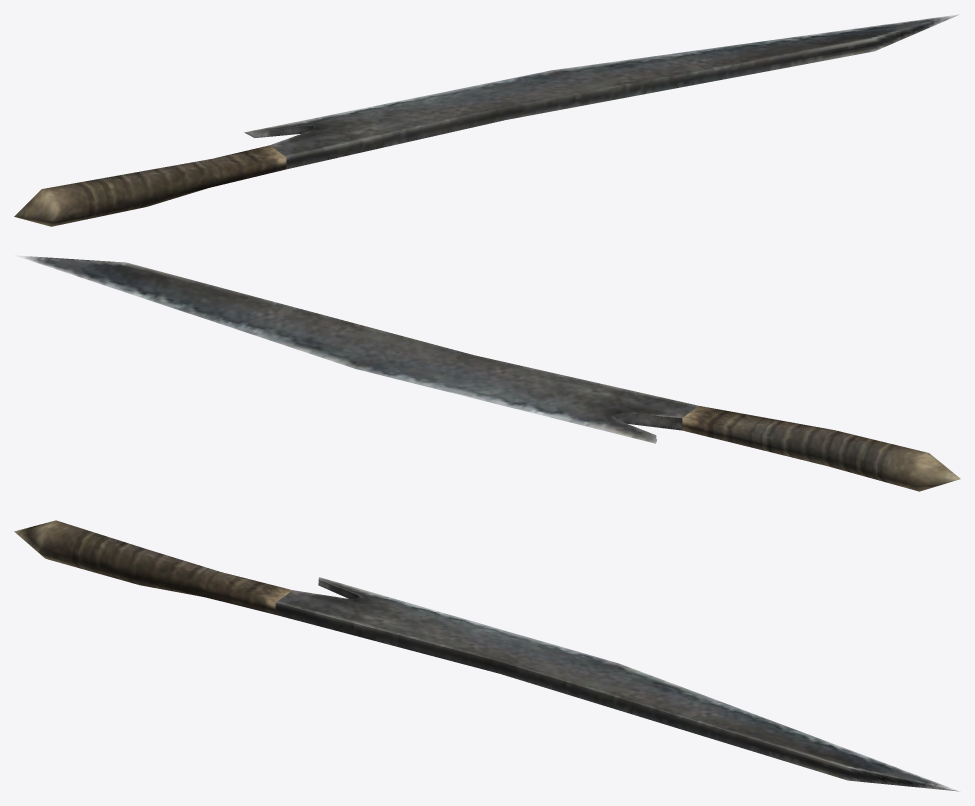
File: GY_jian003.fbx
The picture shows the model from 3 angles, top to bottom: view 1: azimuth 30°, elevation 25°; view 2: azimuth 150°, elevation 25°; view 3: azimuth 330°, elevation 25°; orthographic projection. The views are drawn at different scales.
Parts seen in each view (by area): view 1: GY_jian003; view 2: GY_jian003; view 3: GY_jian003.
Boxes of the visible parts, <box> form: GY_jian003: <box>14,14,959,226</box>; GY_jian003: <box>15,255,960,491</box>; GY_jian003: <box>14,520,960,791</box>.
Bounding box in the file's own units: 122 × 4.56 × 12.85.
